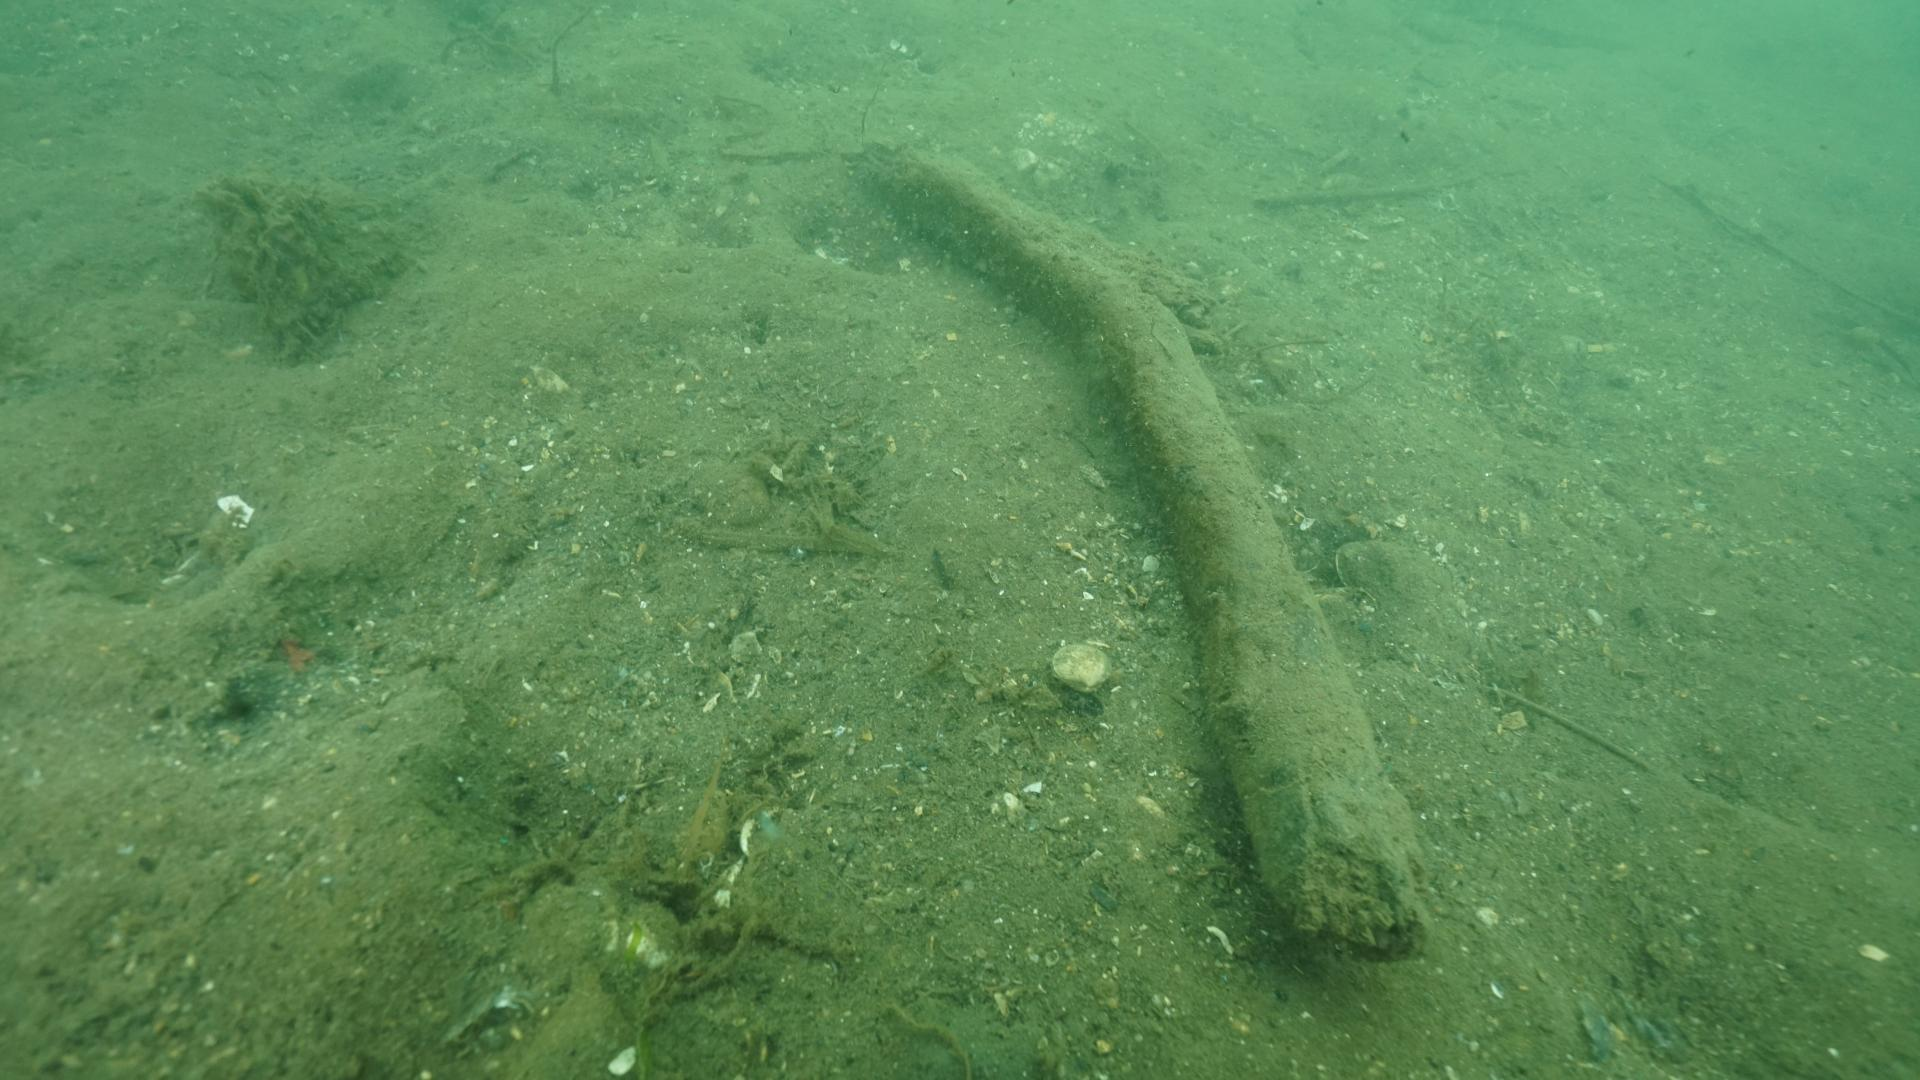wood: (862, 136, 1436, 956)
